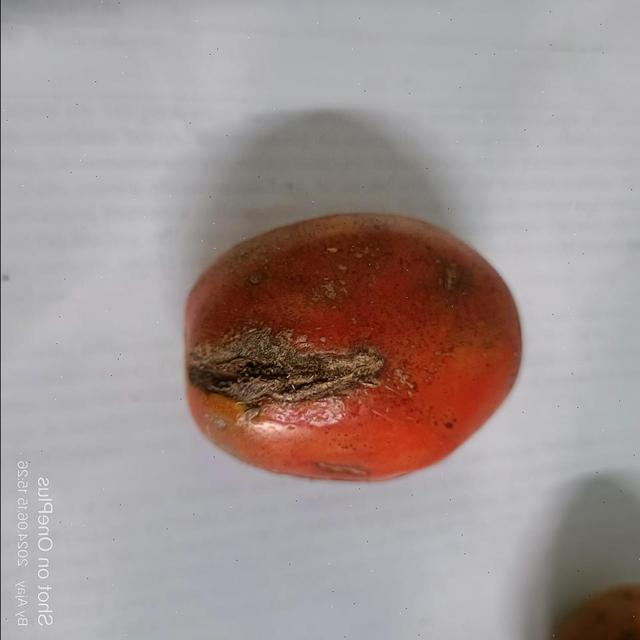Cracking Fruit: (124, 125, 290, 335)
